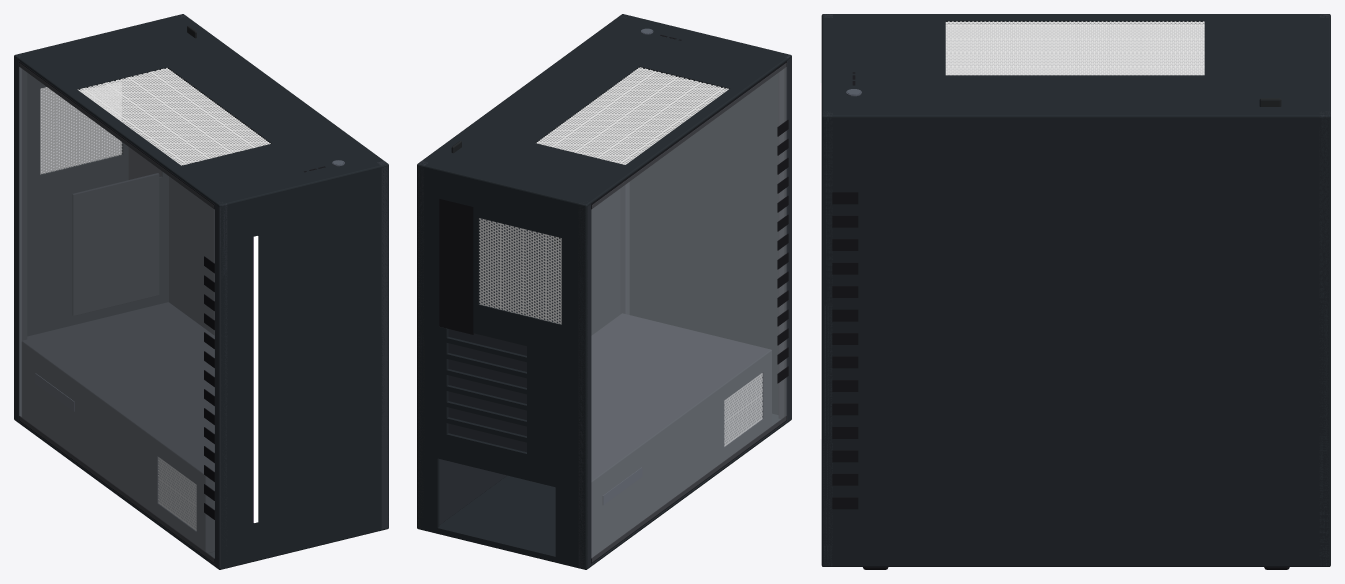
The model's file is case-bitlab-core.glb.
3 renders of one model, left to right at view 1: azimuth 30°, elevation 25°; view 2: azimuth 150°, elevation 25°; view 3: azimuth 270°, elevation 25°, orthographic. The views are drawn at different scales.
Visible parts, largest first — view 1: case_CaseSolid, glass_side, case_Perforated, case_RGB; view 2: case_CaseSolid, glass_side, case_Perforated; view 3: case_CaseSolid, case_Perforated, case_RGB.
Part boxes in pixels (<box>): case_CaseSolid: <box>14,14,388,569</box>; glass_side: <box>19,63,214,561</box>; case_Perforated: <box>40,67,270,530</box>; case_RGB: <box>253,236,258,522</box>; case_CaseSolid: <box>417,14,791,569</box>; glass_side: <box>591,63,786,561</box>; case_Perforated: <box>479,67,762,446</box>; case_CaseSolid: <box>821,14,1330,569</box>; case_Perforated: <box>945,21,1204,75</box>; case_RGB: <box>820,83,821,439</box>.
Size of the model in its own units: 0.2262 by 0.483 by 0.4735.
Materials: 4 (1 with a texture image).
